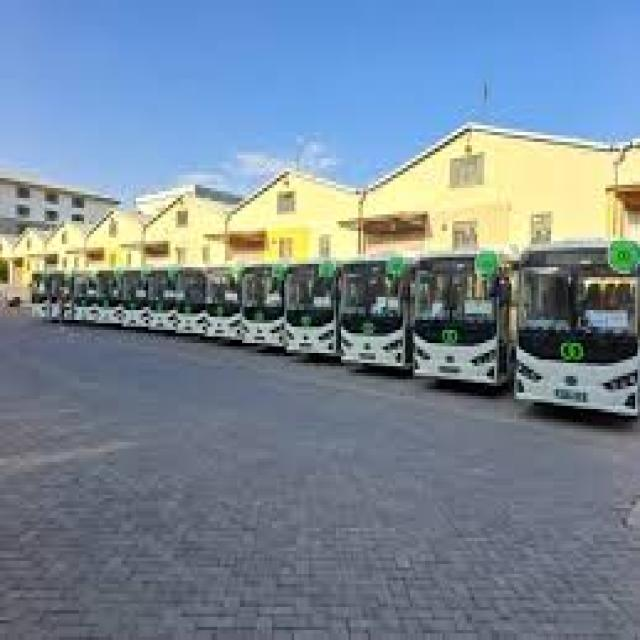bus: (507, 191, 640, 439), (408, 217, 510, 424), (333, 228, 408, 401), (281, 235, 339, 372)
